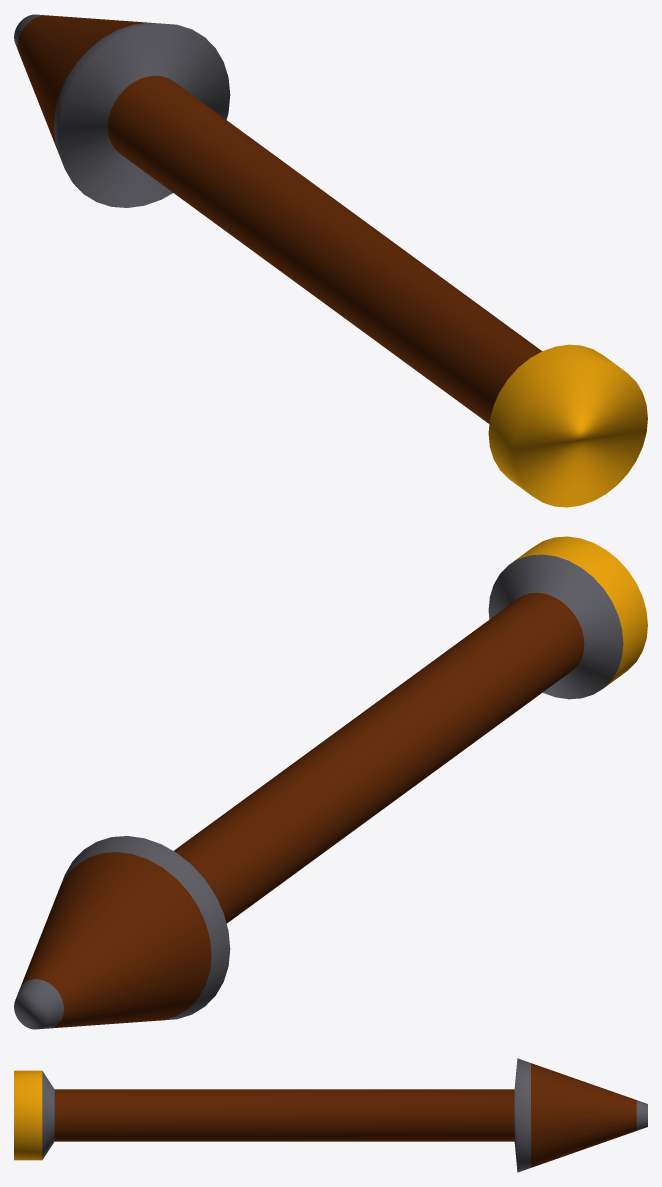
The picture shows the model from 3 angles, top to bottom: view 1: azimuth 30°, elevation 25°; view 2: azimuth 150°, elevation 25°; view 3: azimuth 270°, elevation 25°; orthographic projection. The views are drawn at different scales.
Parts seen in each view (by area): view 1: Cylinder; view 2: Cylinder; view 3: Cylinder.
Boxes of the visible parts, <box> form: Cylinder: <box>14,14,647,507</box>; Cylinder: <box>14,536,647,1029</box>; Cylinder: <box>14,1058,647,1172</box>.
Bounding box in the file's own units: 60.39 × 60.39 × 334.
